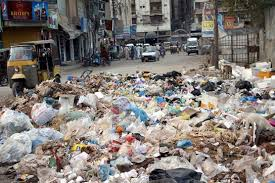garbage: (40, 82, 274, 183), (3, 99, 273, 183), (83, 70, 274, 183)
